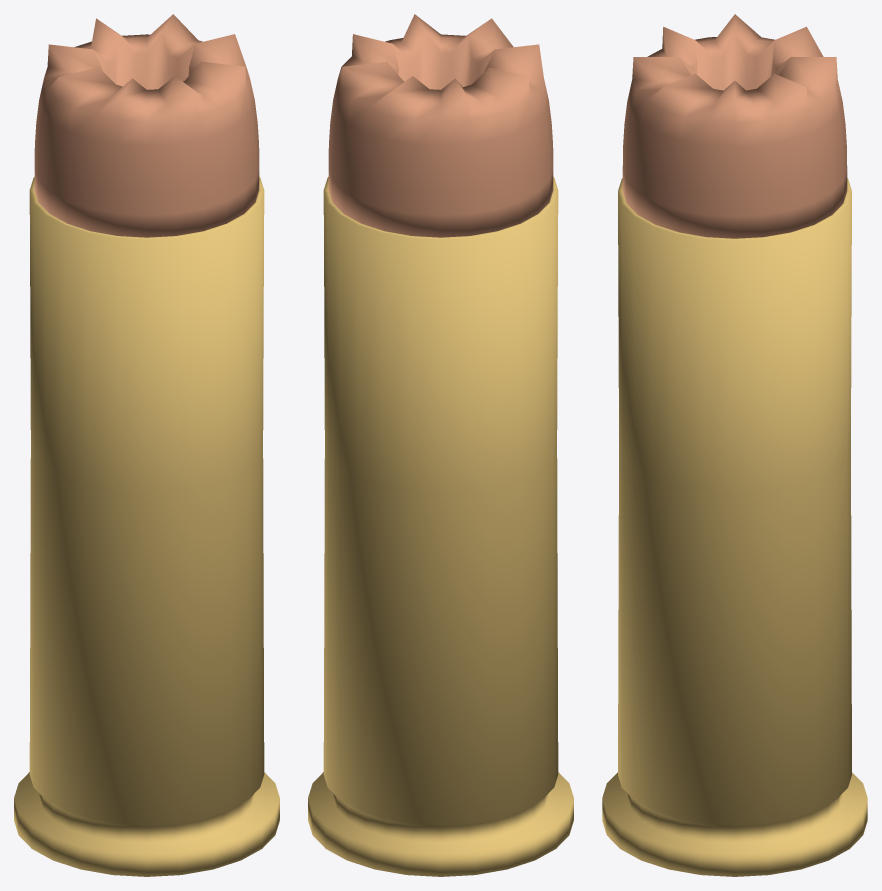
The picture shows the model from 3 angles, left to right: view 1: azimuth 30°, elevation 25°; view 2: azimuth 150°, elevation 25°; view 3: azimuth 270°, elevation 25°; orthographic projection.
Visible parts, largest first — view 1: vaina, bala_flor; view 2: vaina, bala_flor; view 3: vaina, bala_flor.
Part boxes in pixels (x1=…): vaina: x1=14, y1=177, x2=279, y2=876; bala_flor: x1=34, y1=14, x2=259, y2=237; vaina: x1=308, y1=177, x2=573, y2=876; bala_flor: x1=328, y1=14, x2=553, y2=237; vaina: x1=602, y1=178, x2=867, y2=876; bala_flor: x1=622, y1=14, x2=847, y2=238.
Bounding box in the file's own units: 0.0136 × 0.0432 × 0.0136.
